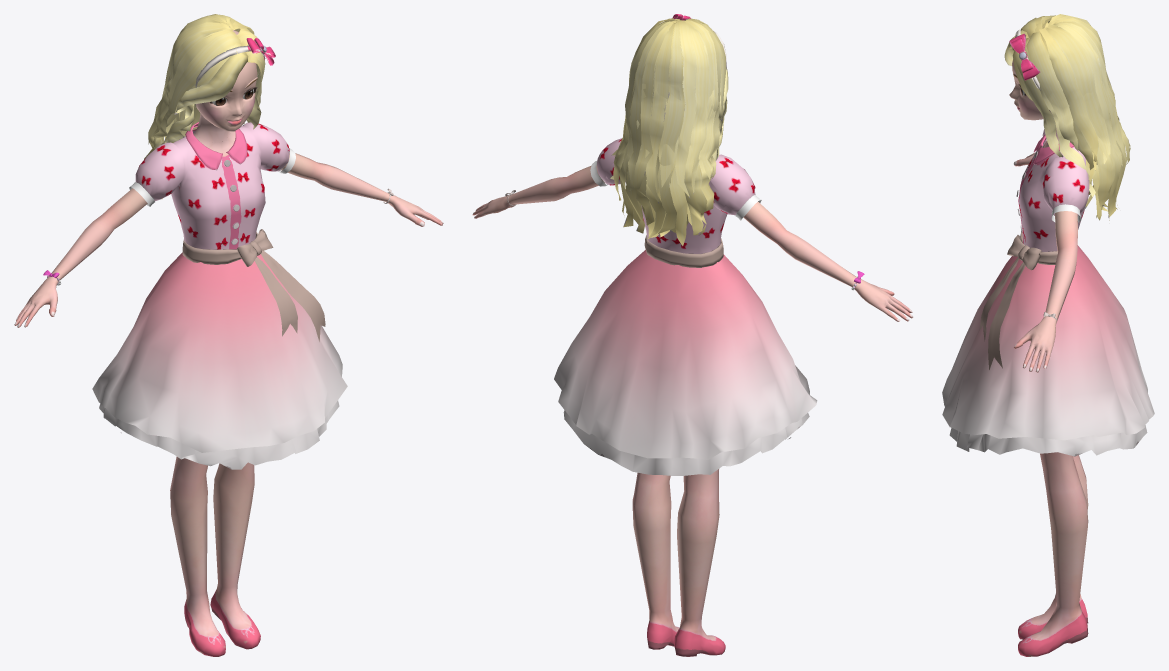
The model's file is JUJU_Blouse_LOW.fbx.
The picture shows the model from 3 angles, left to right: view 1: azimuth 30°, elevation 25°; view 2: azimuth 150°, elevation 25°; view 3: azimuth 270°, elevation 25°; orthographic projection. The views are drawn at different scales.
Visible parts, largest first — view 1: JuJu_Blouse_Cloth, JUJU_BLOUSE_Face:Body, JuJu_Blouse_Hair, JuJu_Blouse_Rleg, JuJu_Blouse_Lleg, JuJu_Blouse_rib, JuJu_Blouse _Acc; view 2: JuJu_Blouse_Cloth, JuJu_Blouse_Hair, JuJu_Blouse_Rleg, JUJU_BLOUSE_Face:Body, JuJu_Blouse_Lleg, JuJu_Blouse_rib; view 3: JuJu_Blouse_Cloth, JuJu_Blouse_Hair, JuJu_Blouse_Lleg, JUJU_BLOUSE_Face:Body, JuJu_Blouse_rib, JuJu_Blouse_Rleg, JuJu_Blouse _Acc.
Boxes of the visible parts, x1,y1,x2,y2 form: JuJu_Blouse_Cloth: (92,122,347,469); JUJU_BLOUSE_Face:Body: (14,30,443,327); JuJu_Blouse_Hair: (144,14,265,199); JuJu_Blouse_Rleg: (170,456,225,656); JuJu_Blouse_Lleg: (210,462,260,649); JuJu_Blouse_rib: (182,229,325,341); JuJu_Blouse _Acc: (43,38,393,285); JuJu_Blouse_Cloth: (554,138,817,475); JuJu_Blouse_Hair: (610,17,728,246); JuJu_Blouse_Rleg: (674,469,725,656); JUJU_BLOUSE_Face:Body: (472,165,913,321); JuJu_Blouse_Lleg: (632,473,679,649); JuJu_Blouse_rib: (644,235,723,267); JuJu_Blouse_Cloth: (942,129,1154,456); JuJu_Blouse_Hair: (1004,14,1130,220); JuJu_Blouse_Lleg: (1018,452,1088,656); JUJU_BLOUSE_Face:Body: (1009,26,1077,372); JuJu_Blouse_rib: (980,229,1057,369); JuJu_Blouse_Rleg: (1018,455,1088,639); JuJu_Blouse _Acc: (1009,29,1057,320).
Size of the model in its own units: 11.24 by 15.6 by 4.79.
